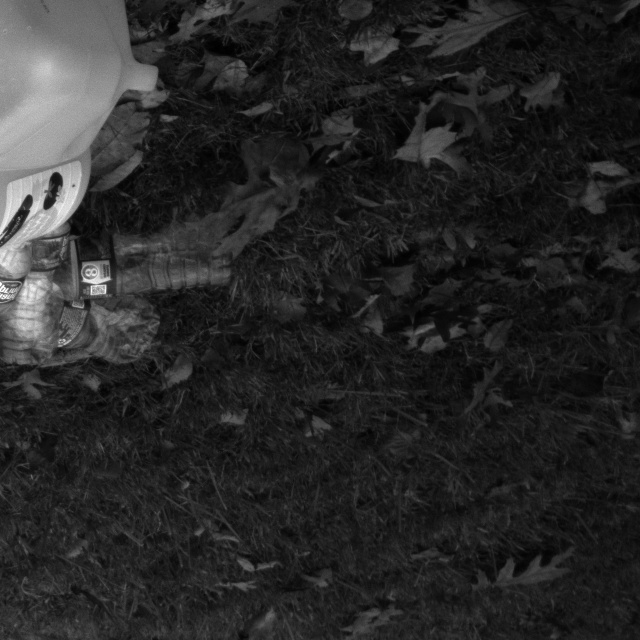bottle: (9, 213, 237, 303), (0, 212, 69, 373), (48, 295, 158, 368)
can: (0, 0, 154, 171), (0, 107, 91, 280)
